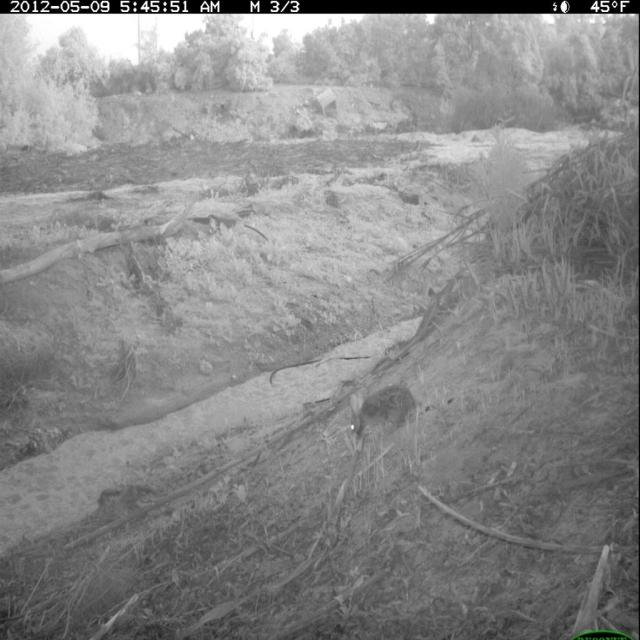rabbit: (343, 381, 422, 451)
